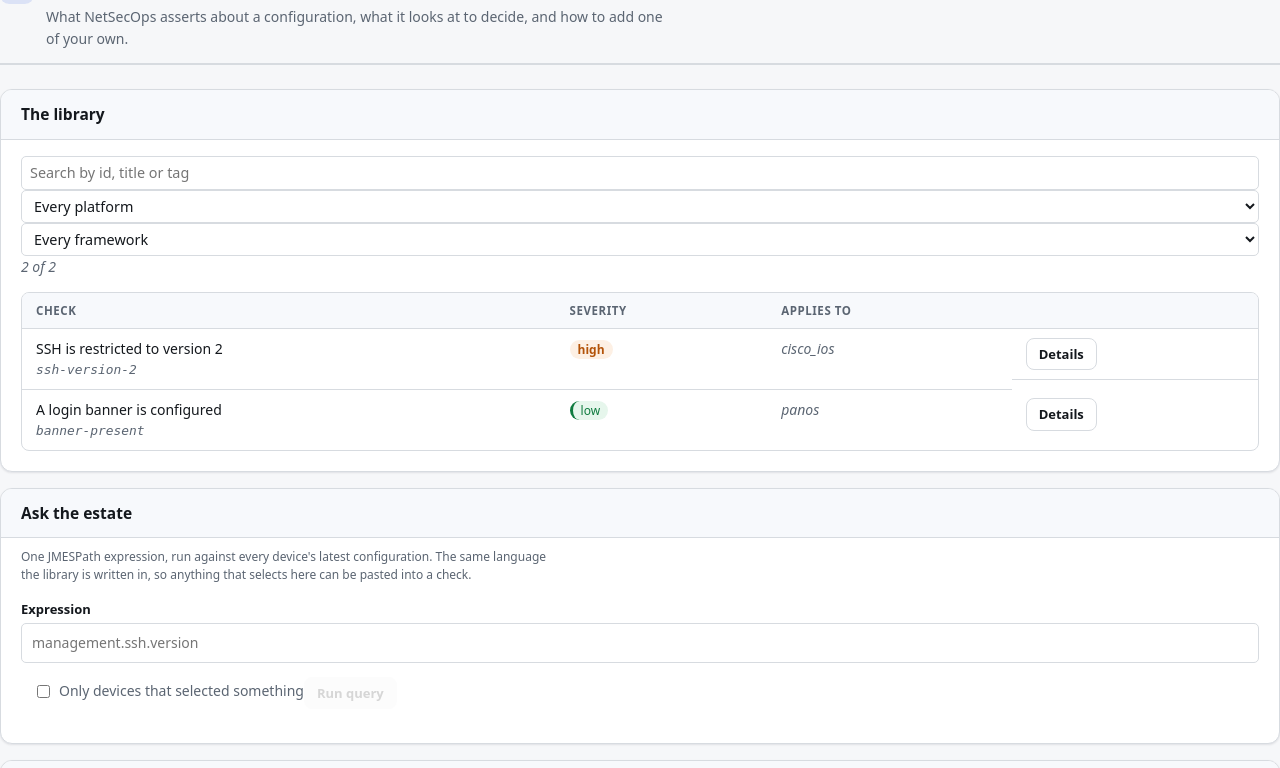
Test case: ChecksPage › asking the estate › shows a device that could not answer, rather than dropping it
This screenshot has width=1280, height=768.
Type "x" into the field labelled "Expression" at (640, 643), box left=21, top=623, right=1259, bottom=663
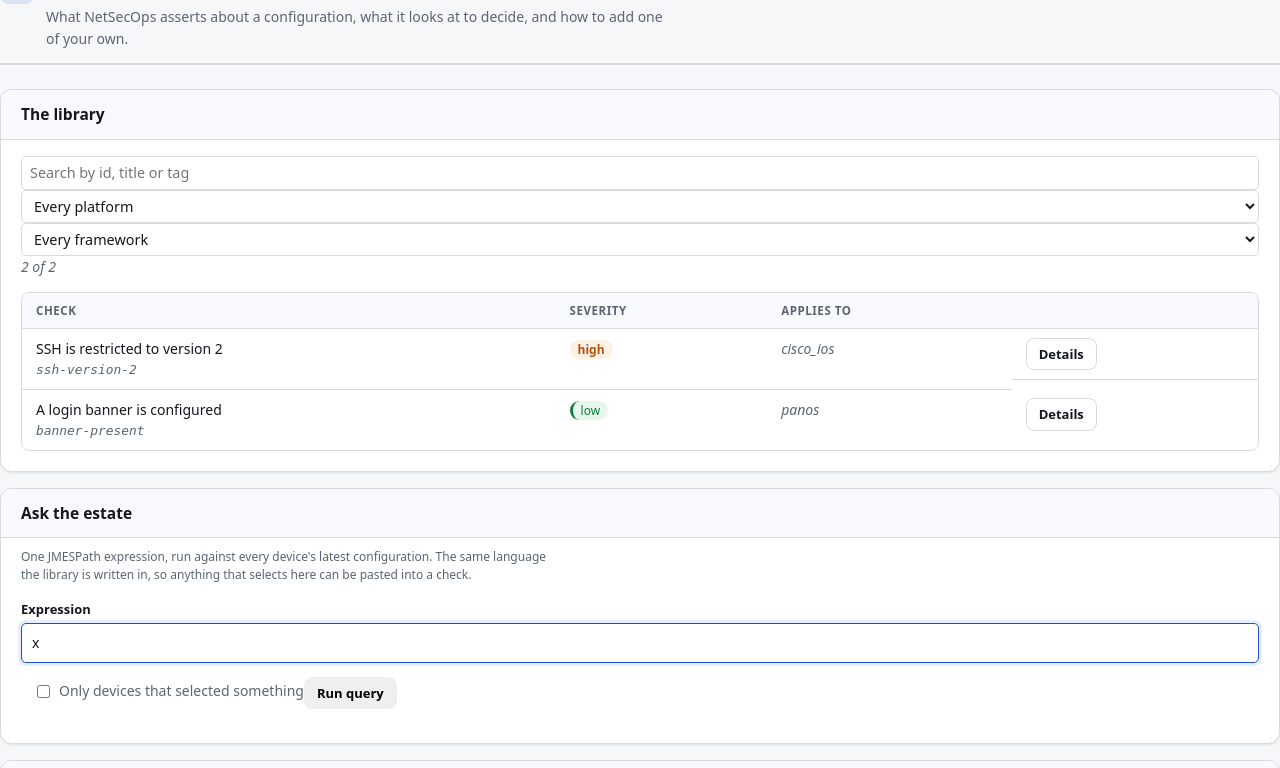
Click the button "Run query" at (350, 693), box left=304, top=677, right=397, bottom=709
(page scrolled)
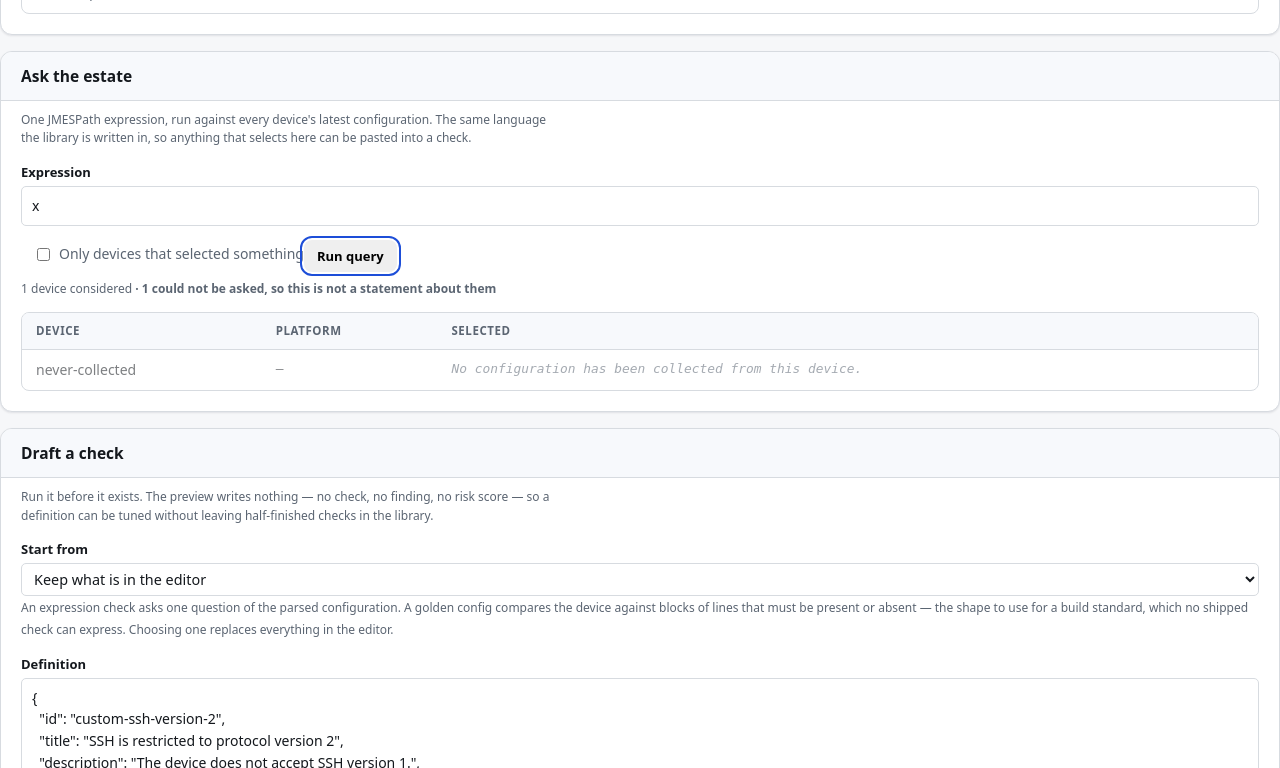
Result: the text "never-collected" is shown at left=22, top=350, right=262, bottom=390
Result: the text "No configuration has been collected from this device." is shown at left=451, top=361, right=862, bottom=376
